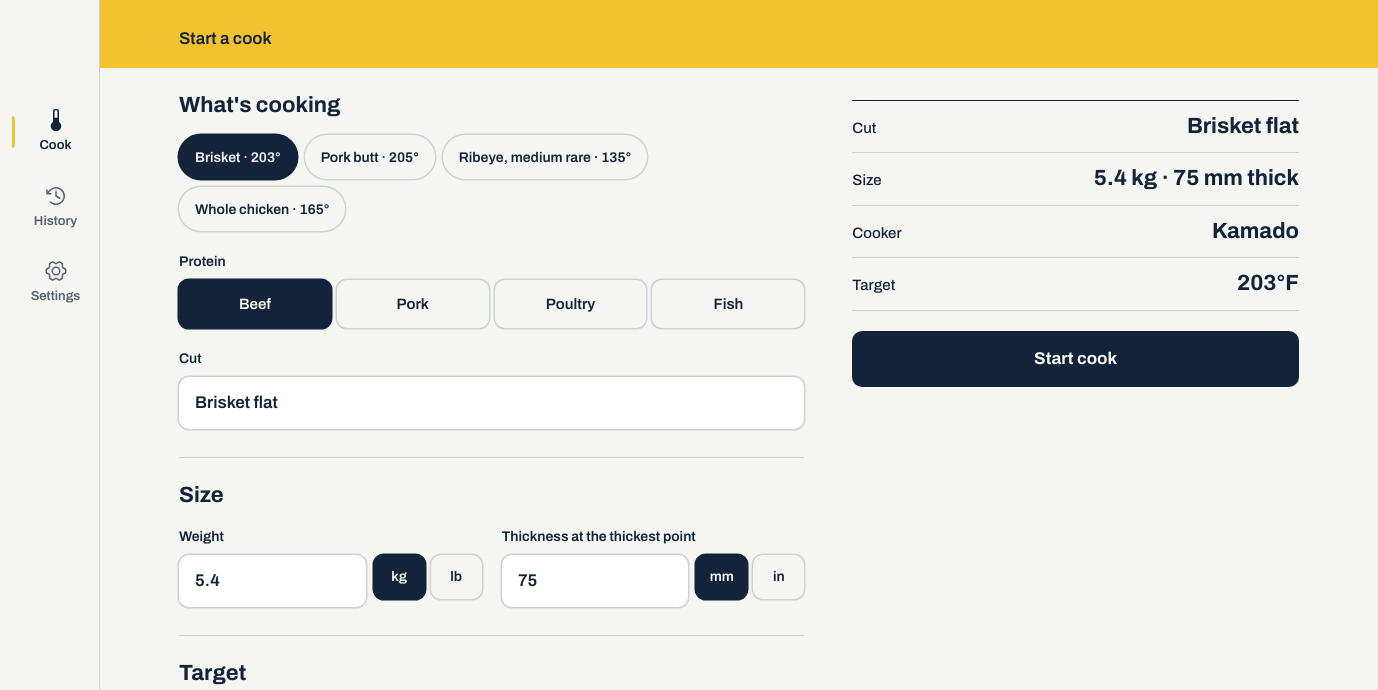
Test: SetupScreen › explains invalid fields instead of submitting
Clear the field labelled "Cut" at [492, 403], box [179,377,804,429]
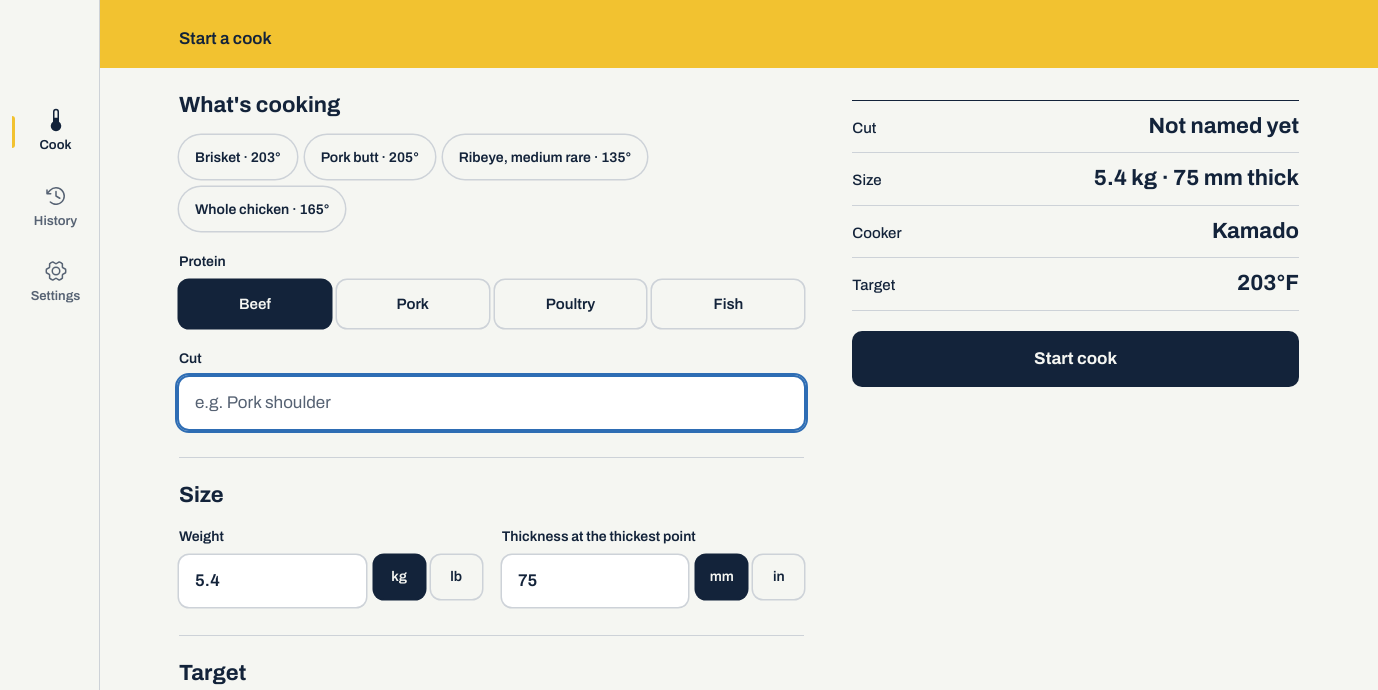
Click the button "Start cook" at [1076, 358], box [852,330,1299,386]
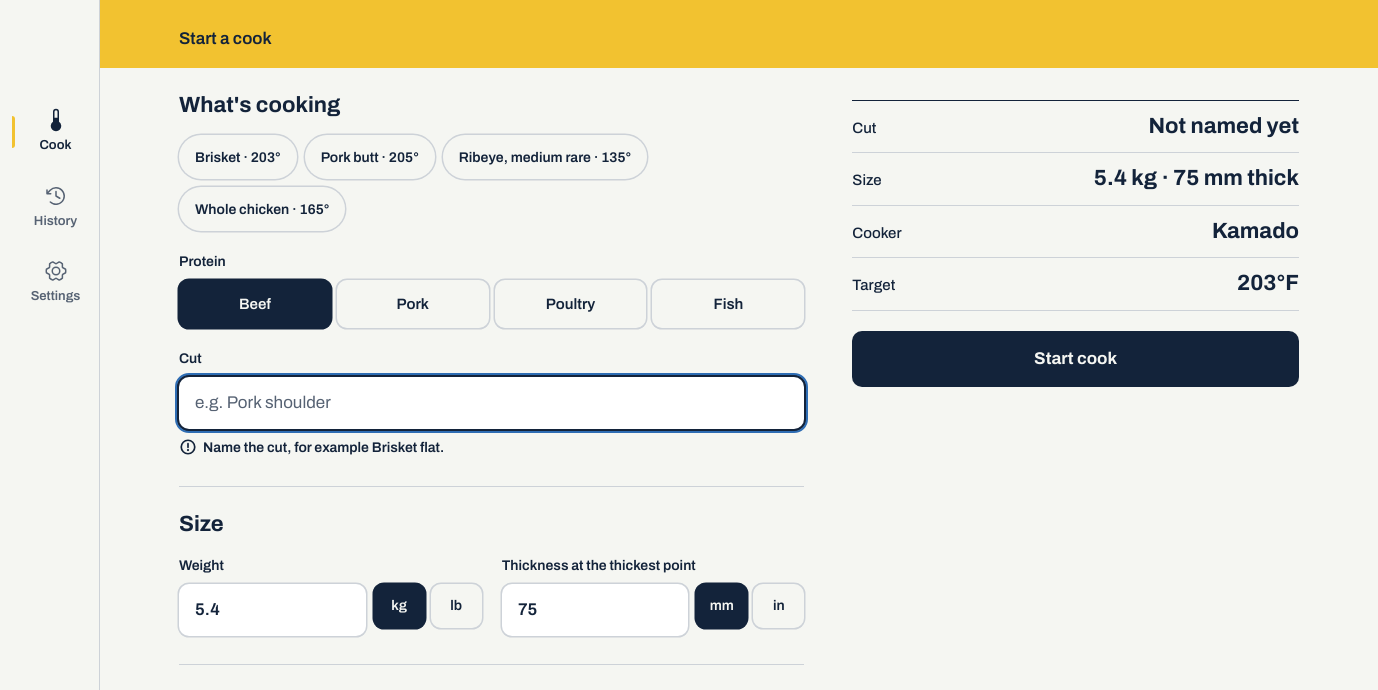
Expected: the text "Name the cut, for example Brisket flat." is shown, [179,438,444,456]
